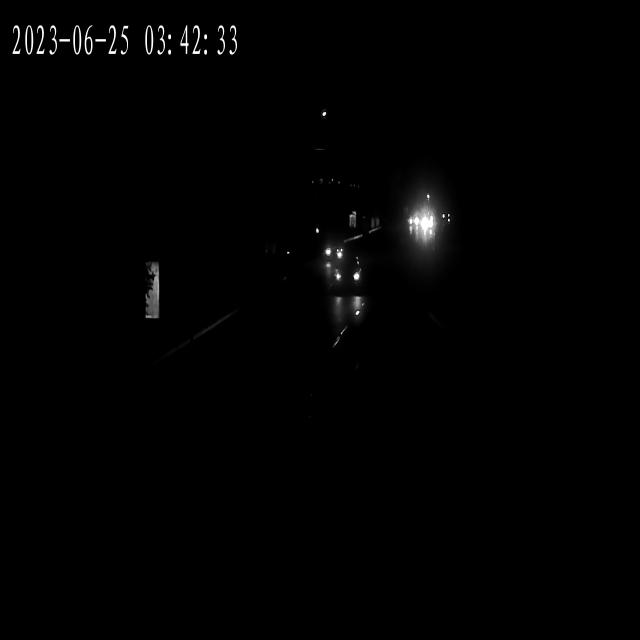Car: (331, 262, 364, 295), (322, 239, 346, 262), (416, 219, 438, 239), (407, 206, 422, 232)
